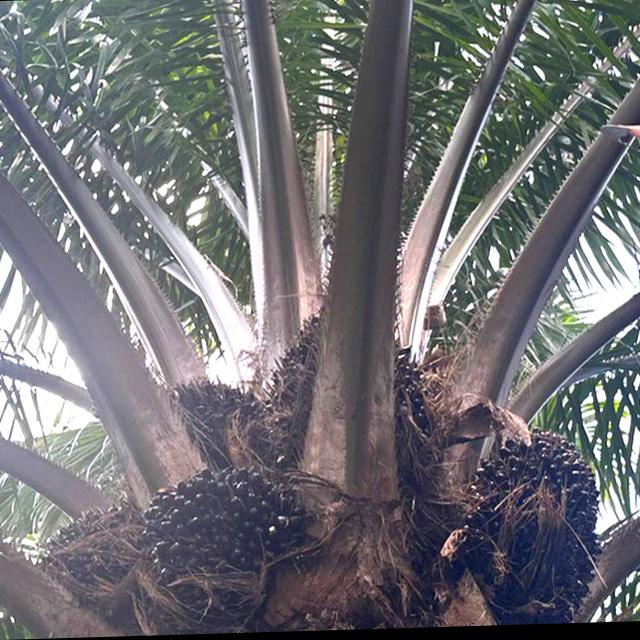unripe: (253, 305, 443, 491), (467, 428, 611, 629), (134, 461, 305, 608), (168, 366, 284, 475), (37, 496, 144, 599)
